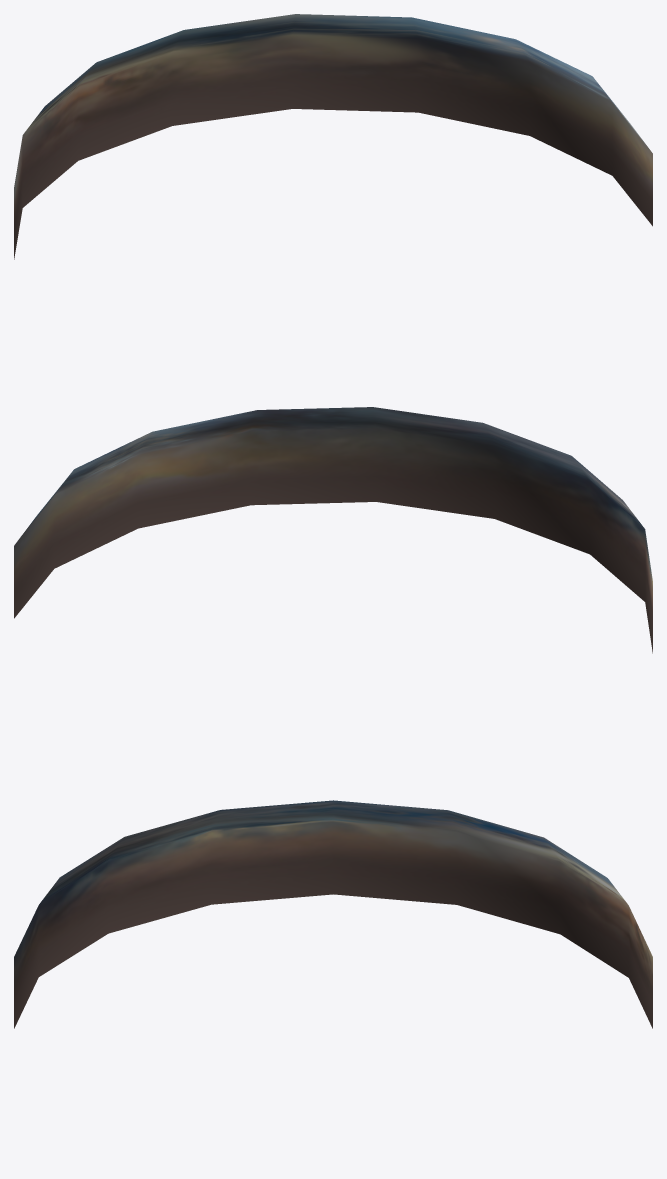
Rendered from France_Sky.glb.
The picture shows the model from 3 angles, top to bottom: view 1: azimuth 30°, elevation 25°; view 2: azimuth 150°, elevation 25°; view 3: azimuth 270°, elevation 25°; orthographic projection.
Parts seen in each view (by area): view 1: Sky; view 2: Sky; view 3: Sky.
Part boxes in pixels (x1,y1,x2,y2): Sky: (14,14,652,259); Sky: (14,407,652,653); Sky: (14,800,652,1028).
Size of the model in its own units: 333 by 72.53 by 333.
1 material, 1 textured.
